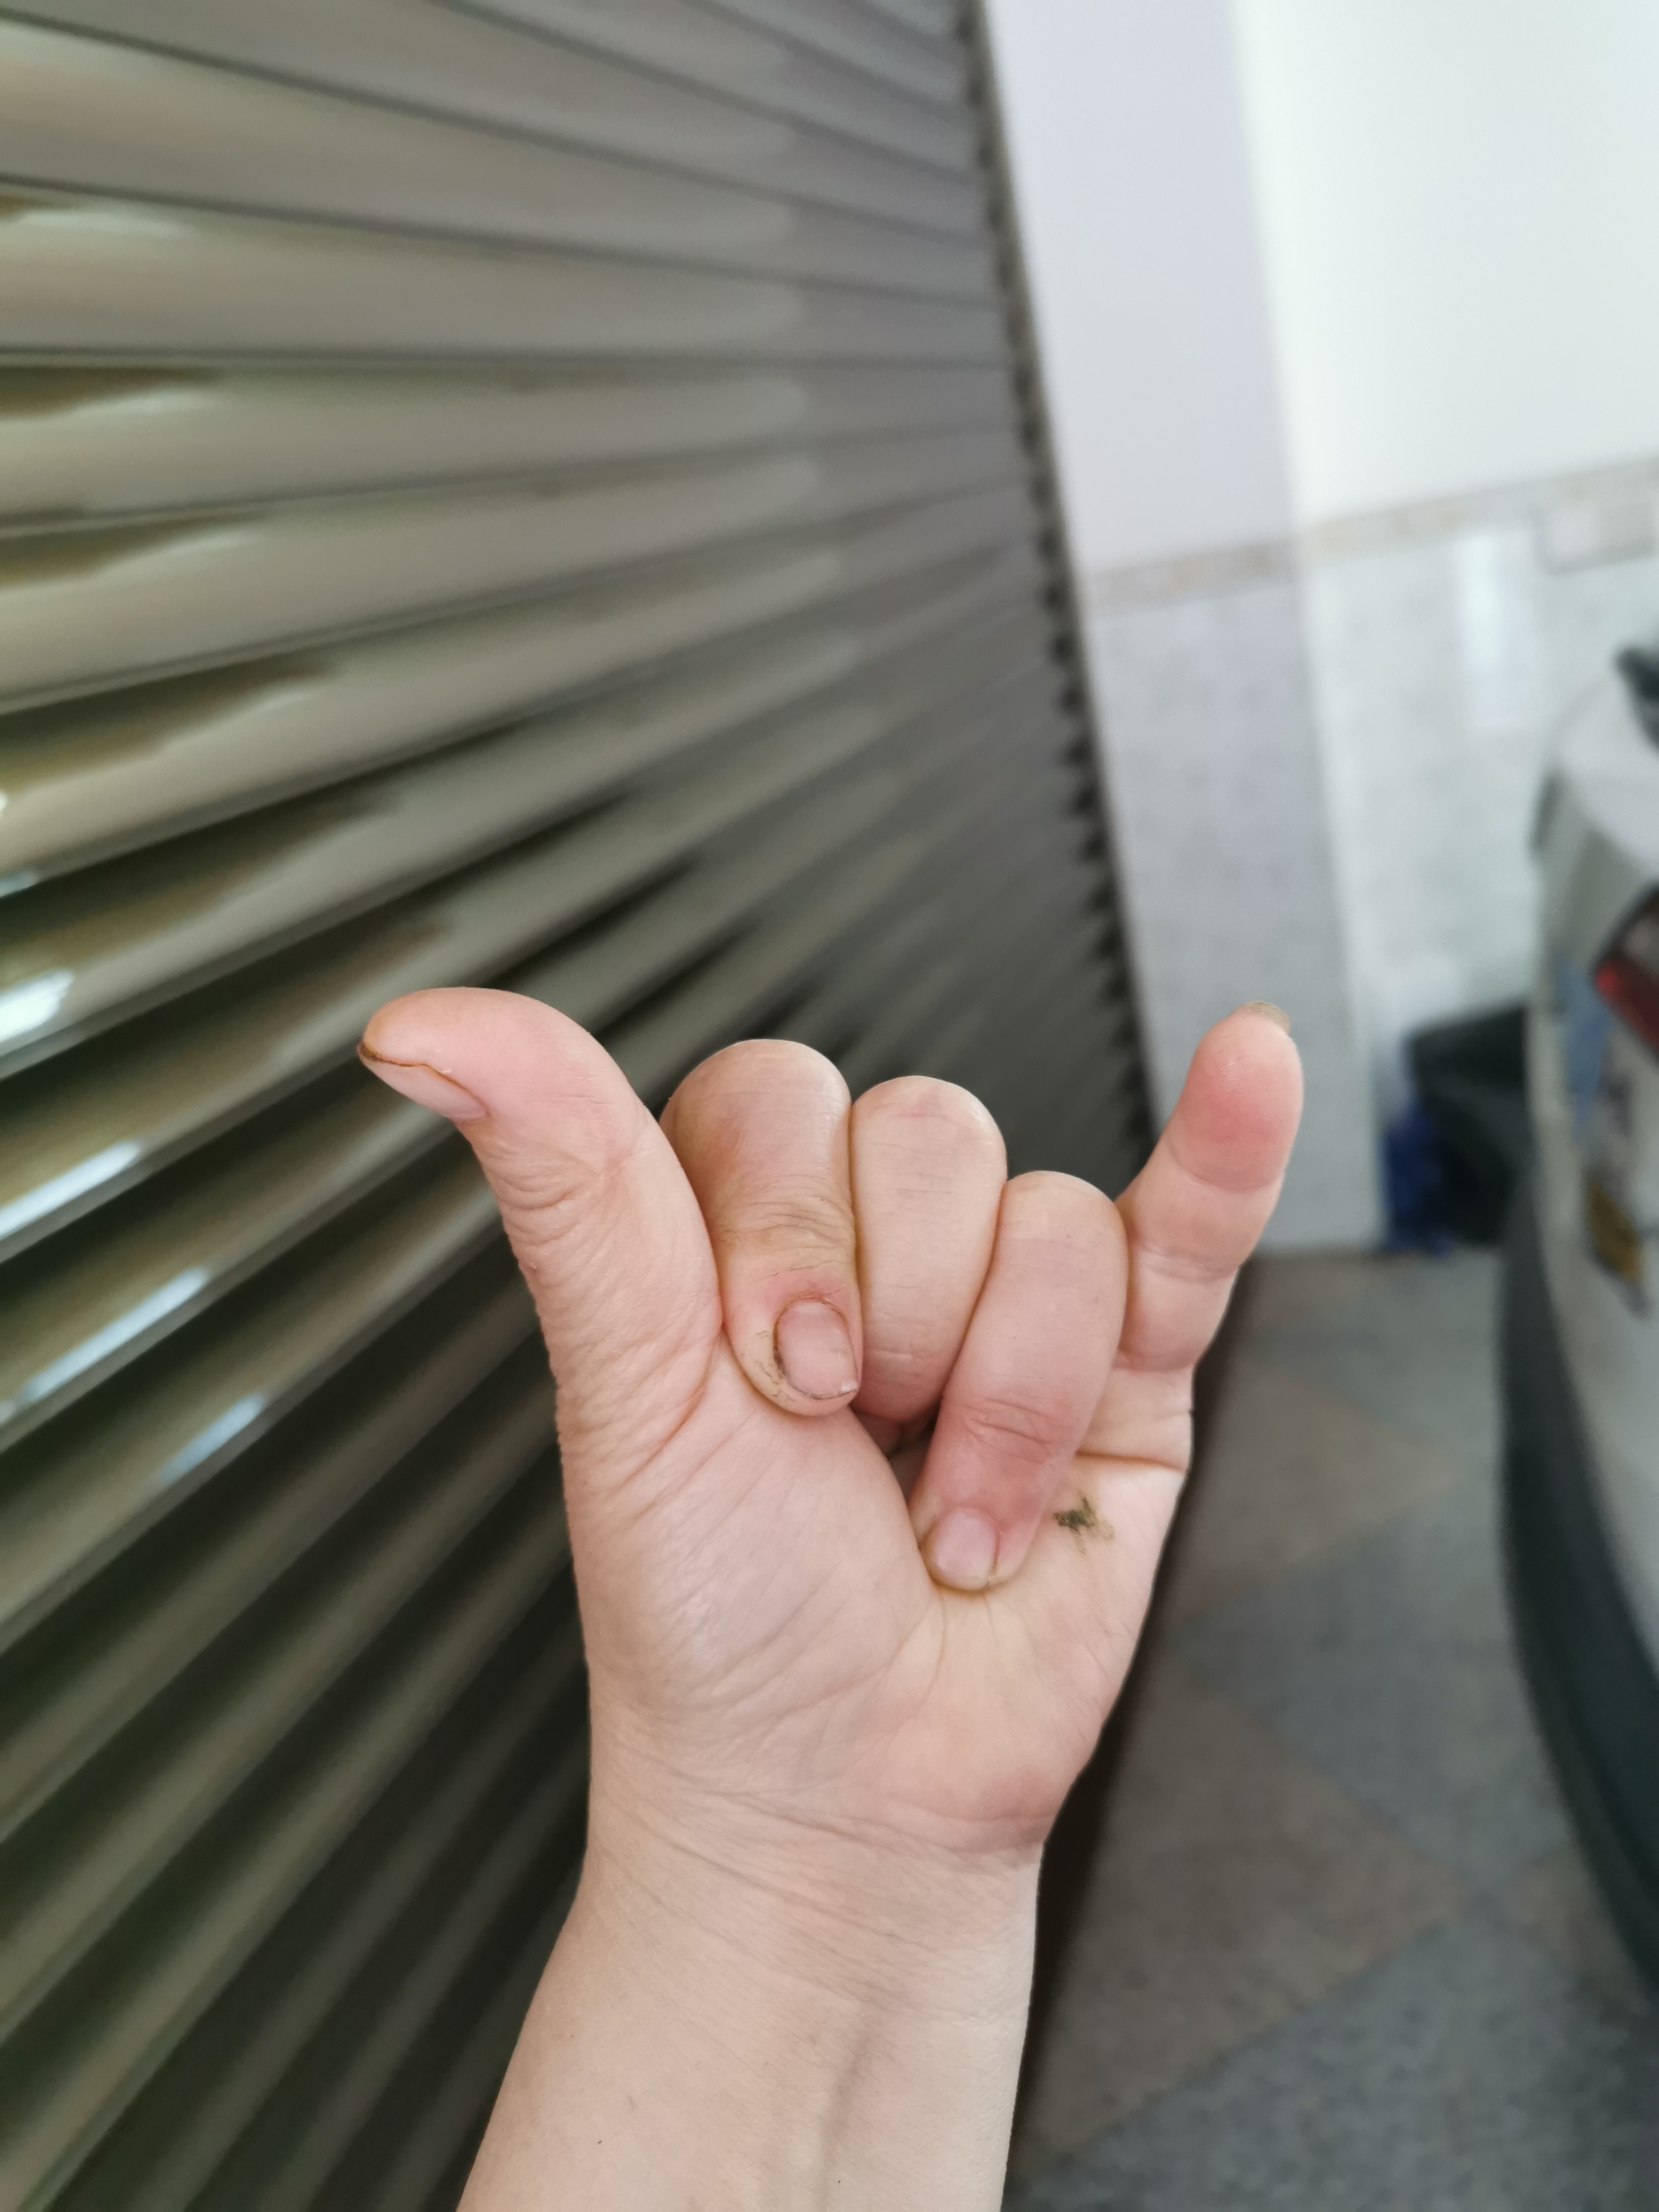clockwise: (354, 960, 1305, 1831)
